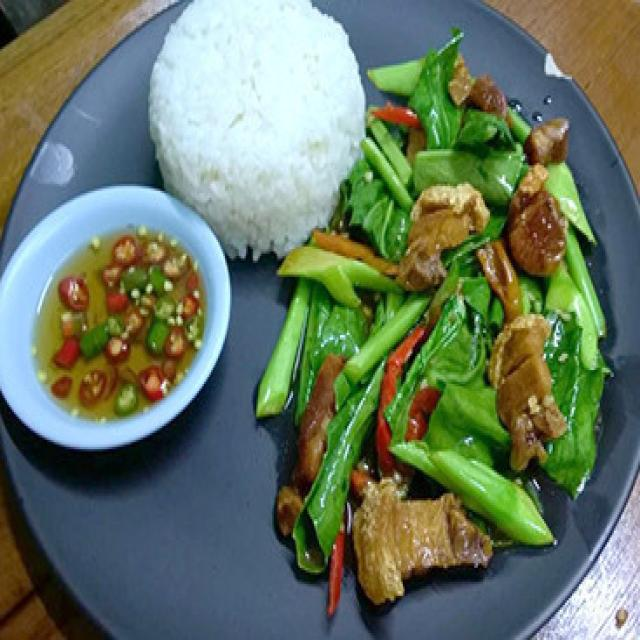carb: (151, 3, 366, 260)
meat: (354, 495, 491, 604), (277, 351, 348, 536), (490, 308, 567, 471), (506, 119, 570, 277), (400, 186, 491, 292), (450, 59, 510, 122)
vegetable: (257, 41, 557, 621), (545, 265, 610, 497), (335, 295, 435, 413), (547, 163, 605, 337)
